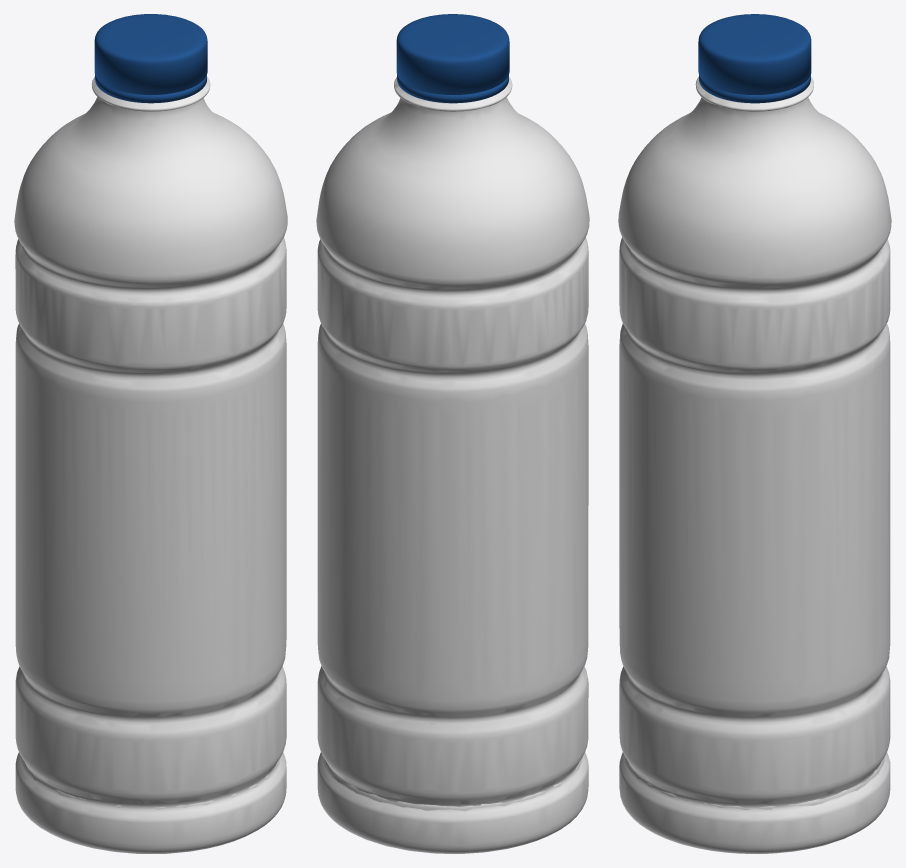
The model's file is PrototypeWaterBottle.fbx.
3 renders of one model, left to right at view 1: azimuth 30°, elevation 25°; view 2: azimuth 150°, elevation 25°; view 3: azimuth 270°, elevation 25°, orthographic.
Visible parts, largest first — view 1: Bottle, Cap; view 2: Bottle, Cap, Fill; view 3: Bottle, Cap, Fill.
Boxes of the visible parts, x1,y1,x2,y2 form: Bottle: [14, 77, 287, 853]; Cap: [94, 14, 207, 103]; Bottle: [316, 77, 589, 853]; Cap: [396, 14, 509, 103]; Fill: [323, 109, 580, 811]; Bottle: [618, 77, 891, 853]; Cap: [698, 14, 811, 103]; Fill: [627, 758, 884, 810].
Size of the model in its own units: 0.1452 by 0.1451 by 0.4507.
